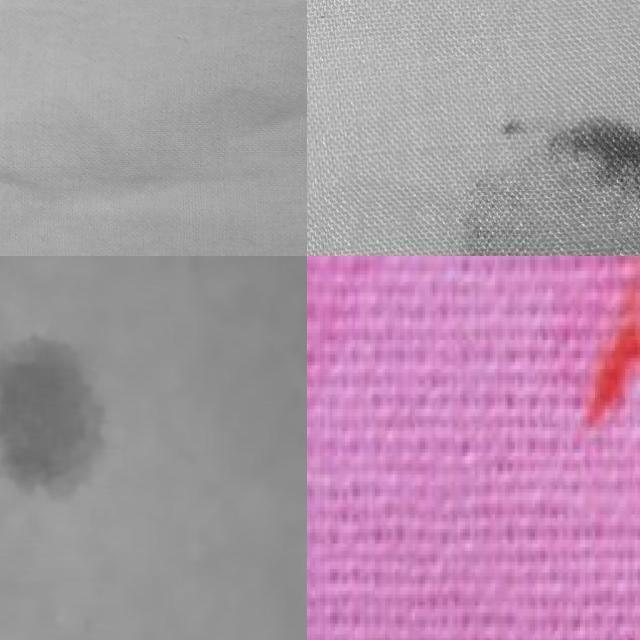Hole: (422, 92, 640, 256), (0, 326, 126, 504)
